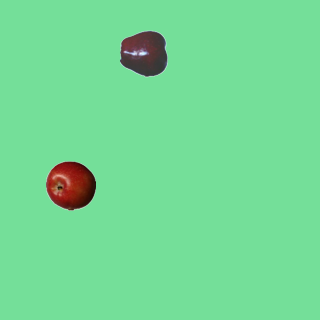Apple Braeburn: (45, 160, 95, 210)
Apple Red Delicious: (119, 28, 169, 78)
